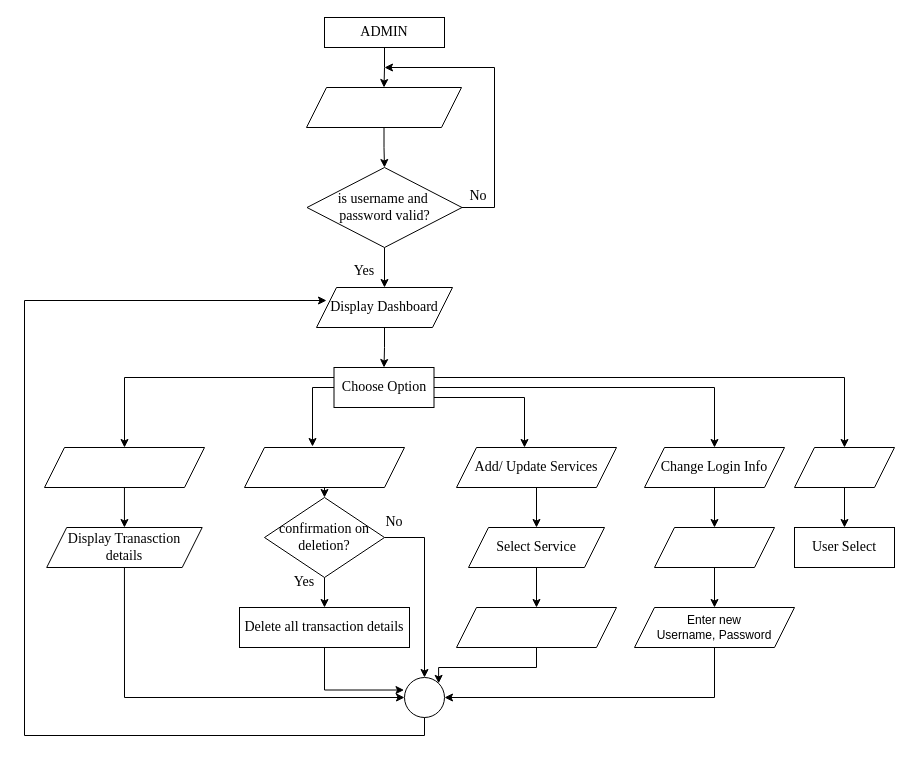
Some shapes in this 912 by 761 pixel diagram are drawn without their labels. The shapes that lost their labels are listed below. From the top down, each one's centre as x and y in pixels, then its label:
the point at 384,107: Input username and password
the point at 124,467: View Transactions
the point at 324,467: Delete Transactions
the point at 844,467: Sign Out
the point at 714,547: Select Admin or User
the point at 536,627: Input new serivce's Name and Price
